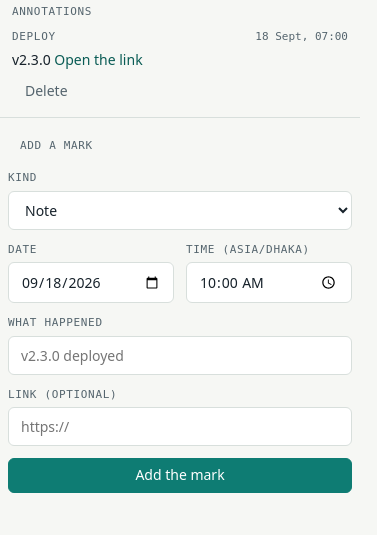
Test: the annotations panel › asks for a sentence before it posts anything
Expected: the text "v2.3.0" is shown, top-left (12, 50), bottom-right (51, 69)
Click the button "Add the mark": [180, 476] box top-left (8, 458), bottom-right (352, 493)
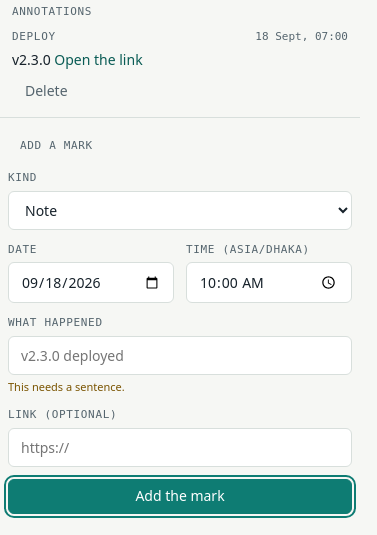
Result: the text "This needs a sentence." is shown at top-left (8, 379), bottom-right (125, 394)
